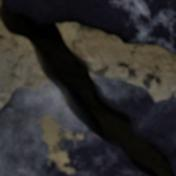brick: (4, 0, 175, 55)
broken_brick: (0, 83, 148, 175), (94, 76, 175, 175)
crack: (0, 0, 174, 175)
